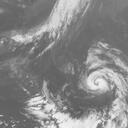cyclone: (84, 67, 115, 95)
